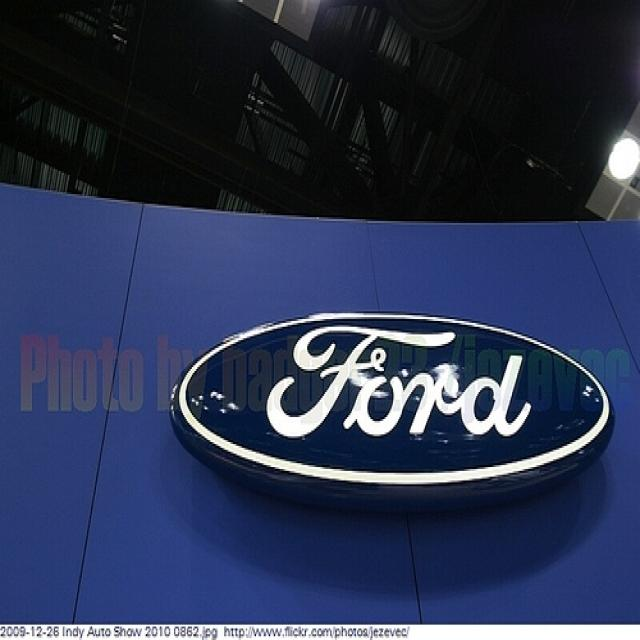ford: (171, 303, 618, 503)
